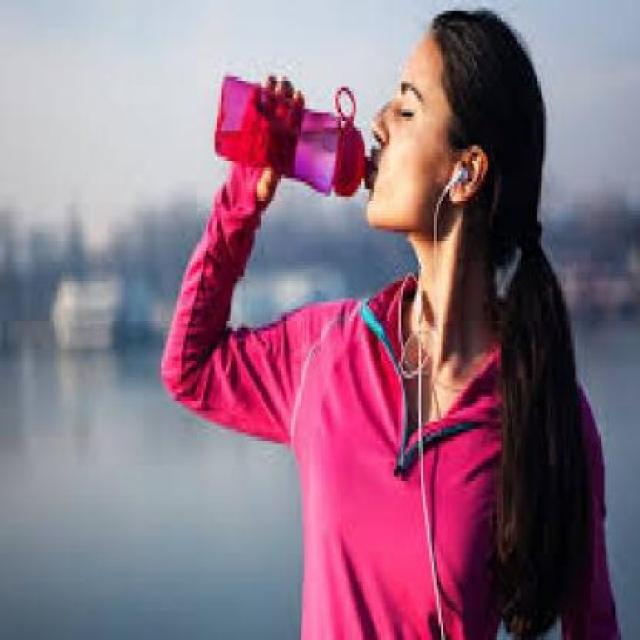Drinking: (208, 50, 381, 204)
